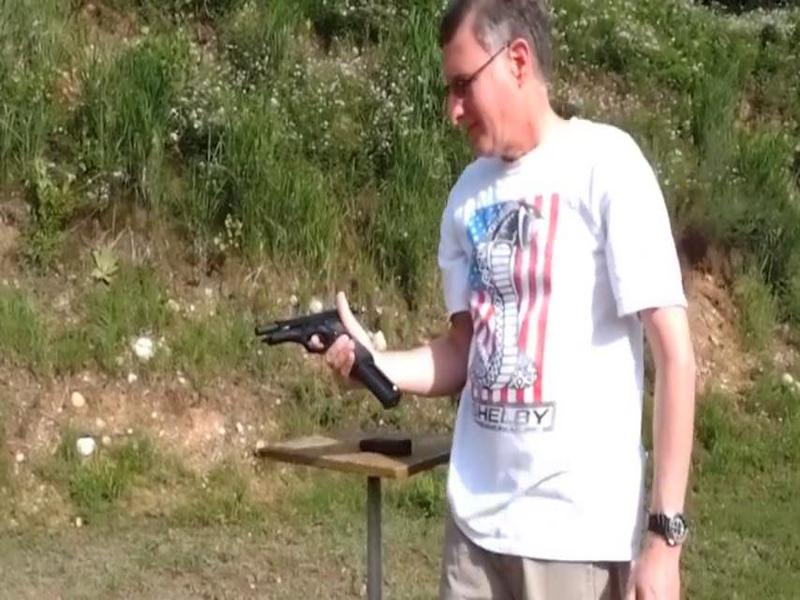Pistola: (248, 286, 383, 379)
